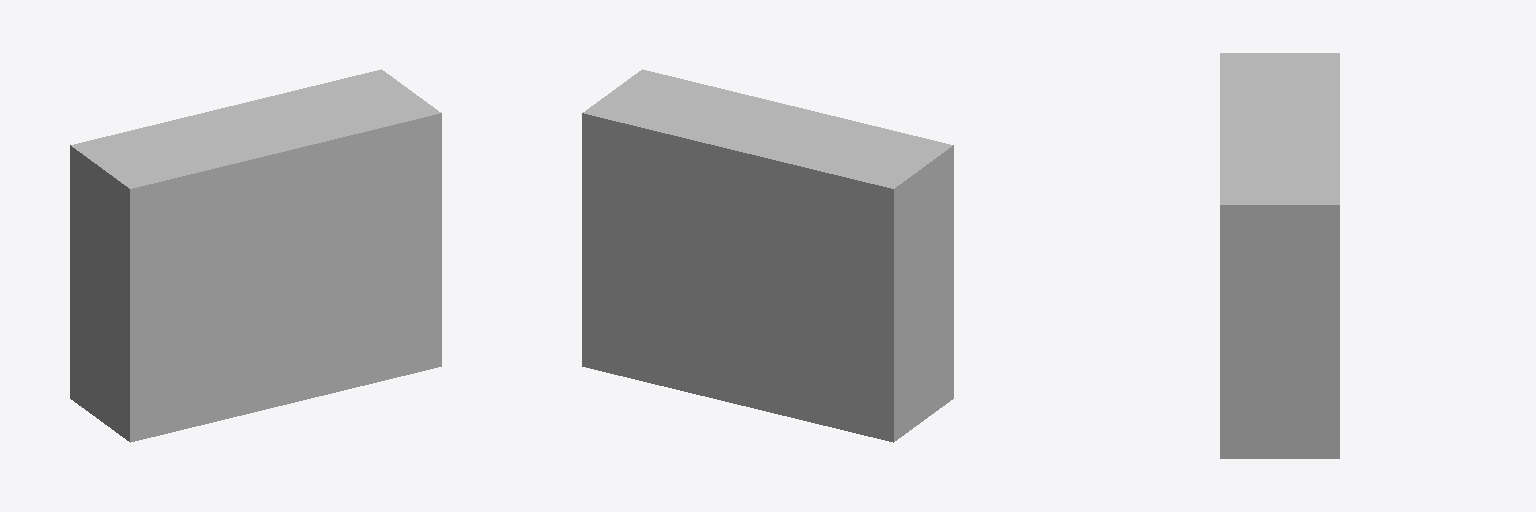
File: Head.obj
3 views of the same model, side by side, from view 1: azimuth 30°, elevation 25°; view 2: azimuth 150°, elevation 25°; view 3: azimuth 270°, elevation 25° (orthographic).
Parts seen in each view (by area): view 1: object 1; view 2: object 1; view 3: object 1.
Boxes of the visible parts, box(x1,y1,x2,y2) form: object 1: box(70, 69, 441, 442); object 1: box(582, 69, 953, 442); object 1: box(1220, 53, 1339, 458).
Size of the model in its own units: 0.9 by 0.7 by 0.3.